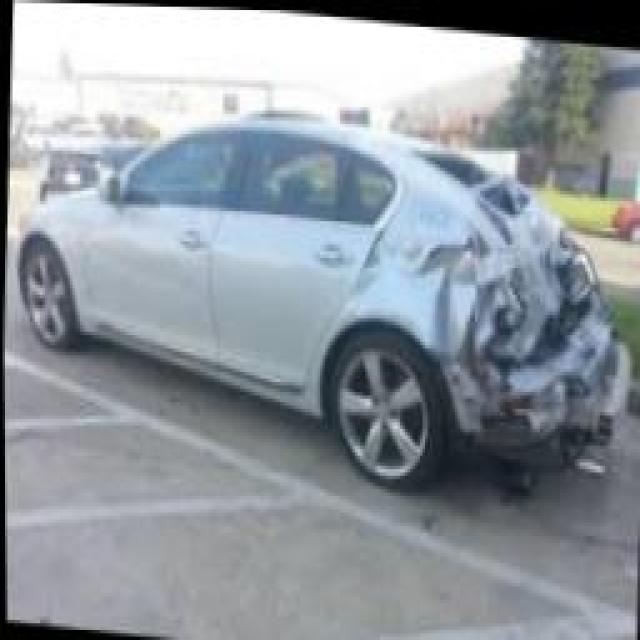Bumper: (468, 302, 624, 450)
Dickey: (462, 151, 607, 373)
